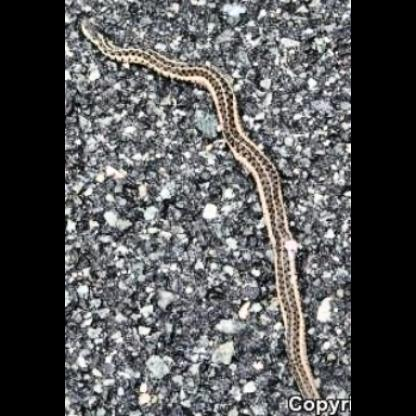Snake: (80, 15, 318, 389)
